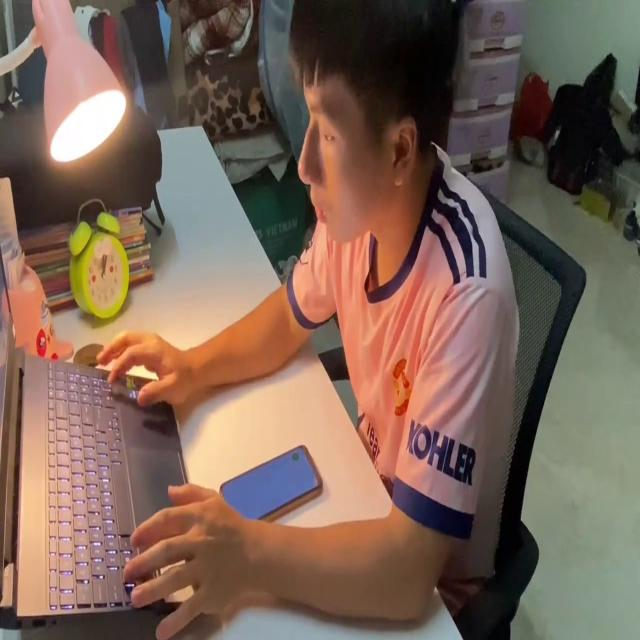laptop: (0, 237, 211, 629)
phone: (220, 437, 326, 517)
student: (96, 0, 521, 640)
